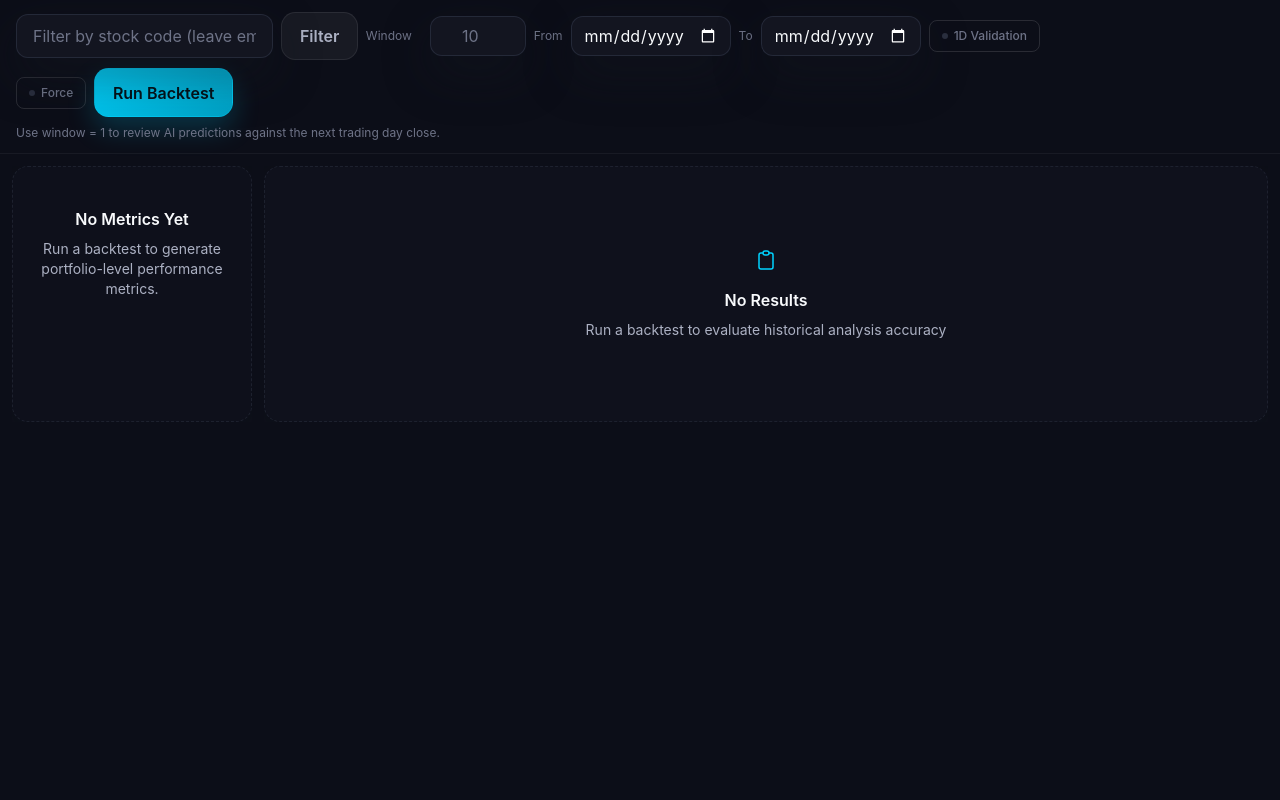
Scenario: BacktestPage › runs a backtest and refreshes results using the shared filter values
Step 1. Type "tsla" into the field with placeholder "Filter by stock code (leave empty for all)" → (145, 36), box [16,14,273,58]
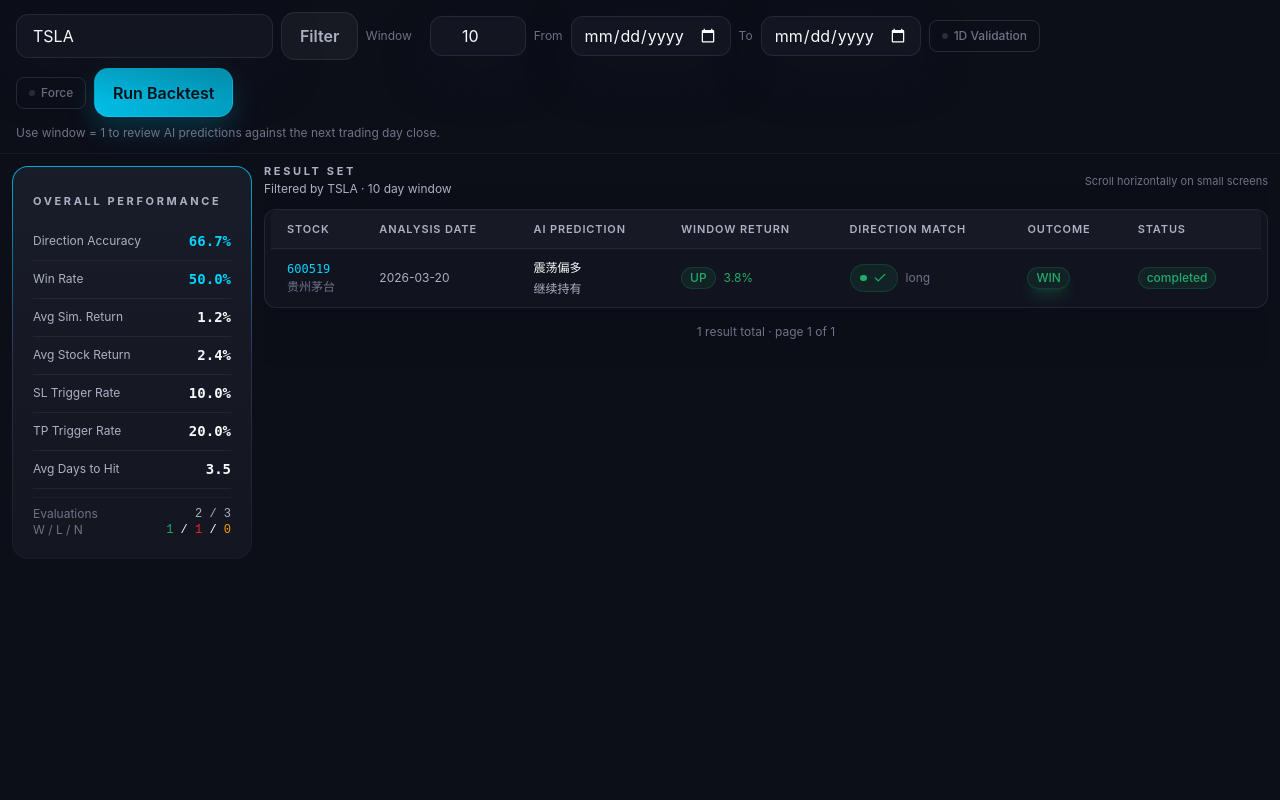
Step 2. Type "15" into the number field with placeholder "10" → (478, 36), box [430,16,526,56]
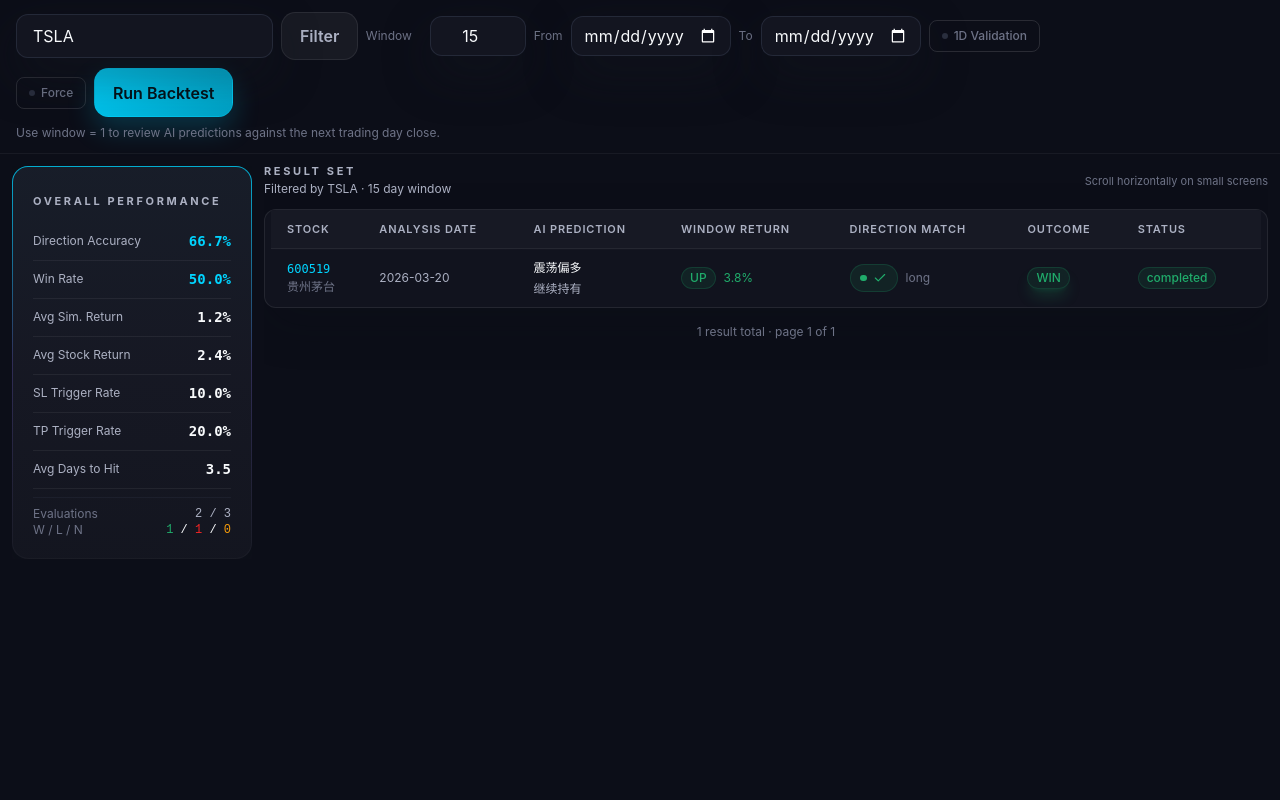
Step 3. Click the button "Run Backtest" → (164, 93), box [94,68,233,117]
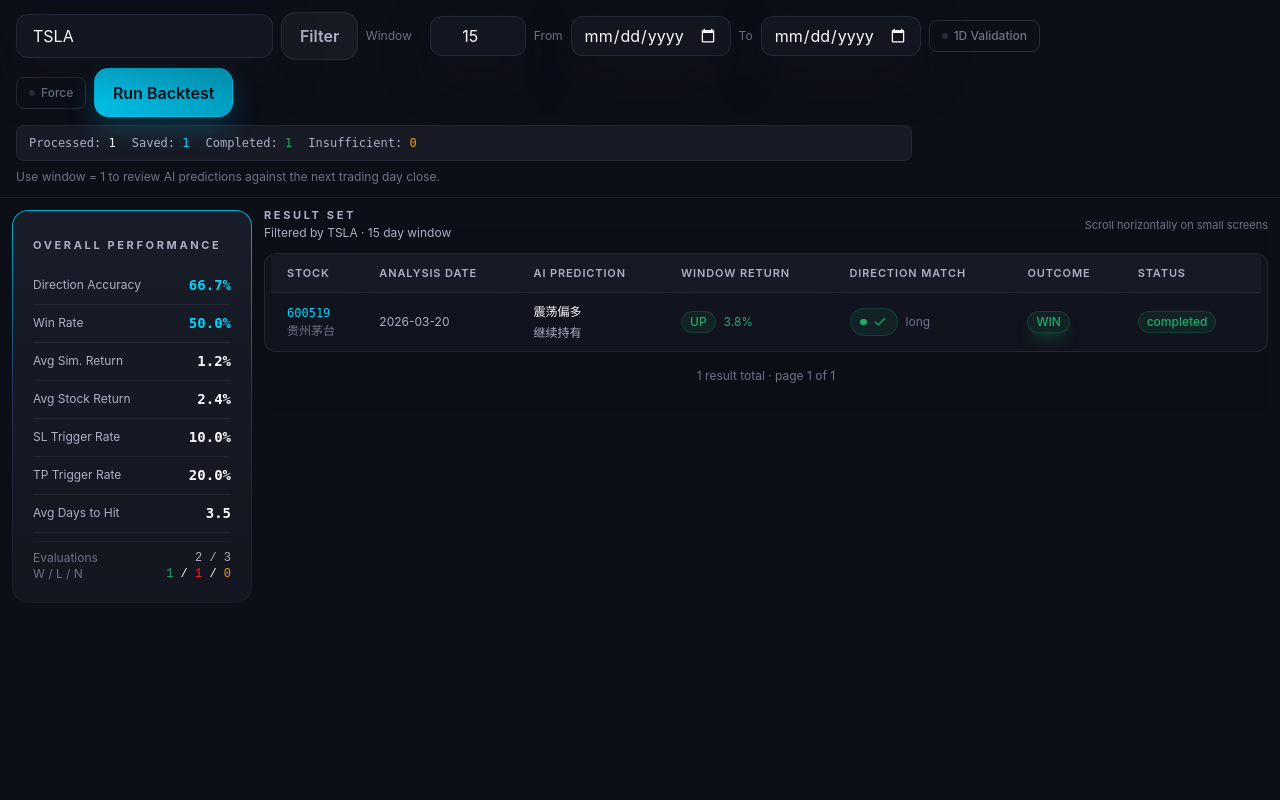
Now the text "Processed:" is shown, box [29,136,108,150]
Now the text "Saved:" is shown, box [132,136,182,150]
